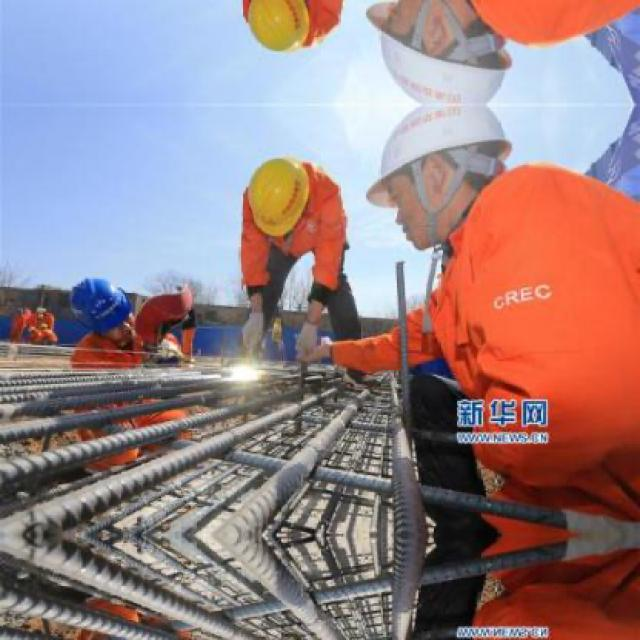helmet: (360, 105, 520, 242), (360, 0, 521, 106), (242, 153, 323, 256), (240, 0, 323, 59), (66, 273, 129, 335)
